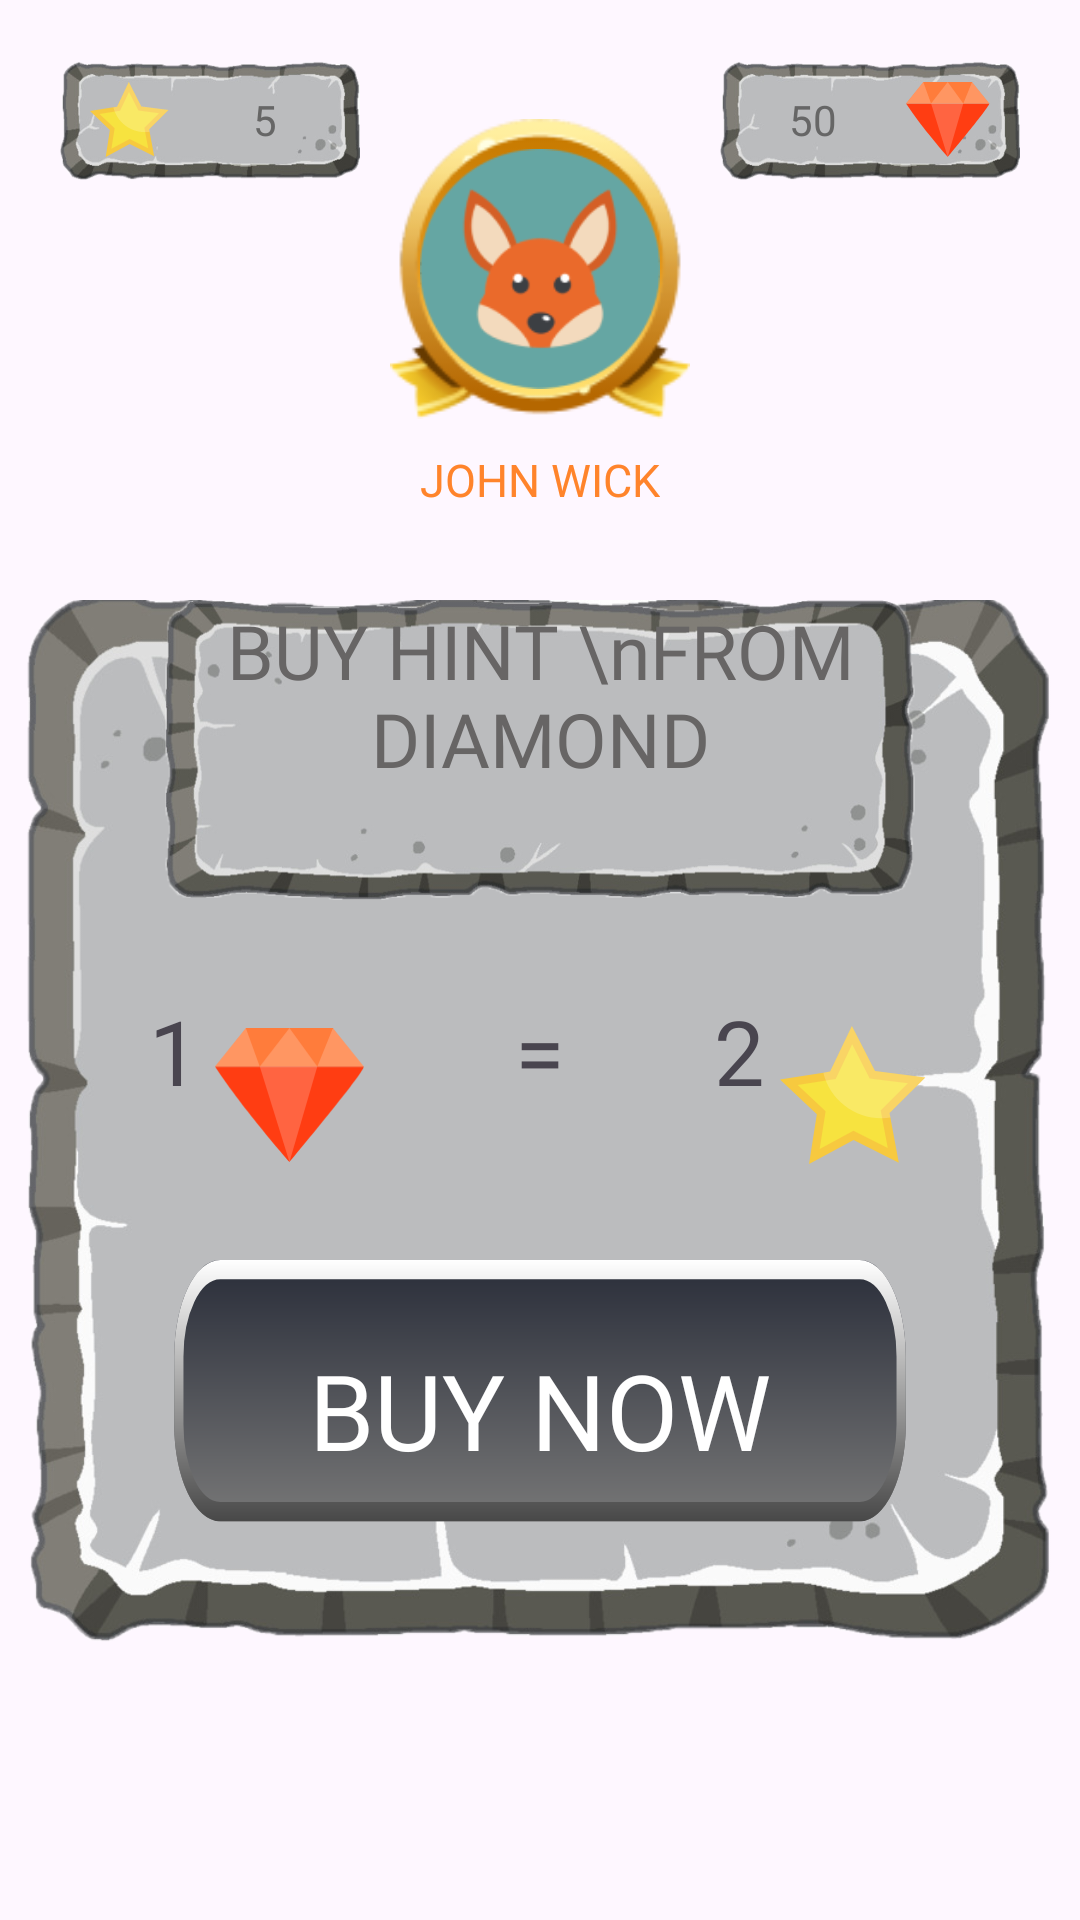

Icons on this 1080 x 1920 Android screen, each with its box as bbox(x1, y1, x2, y2):
dimond: bbox(215, 1028, 364, 1162)
hint star: bbox(780, 1026, 930, 1164)
